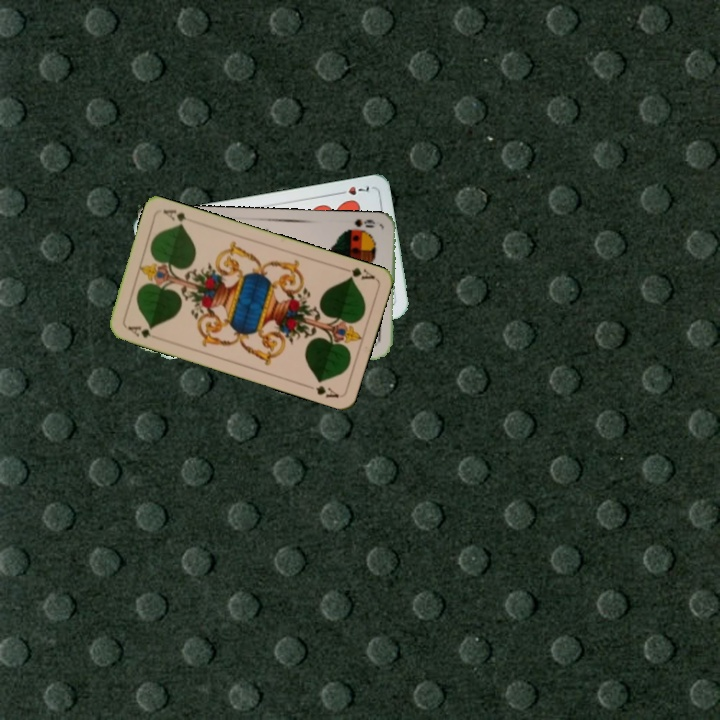GA: (338, 263, 378, 283), (122, 321, 154, 340)
H7: (333, 182, 372, 198)
SO: (351, 215, 378, 230)
